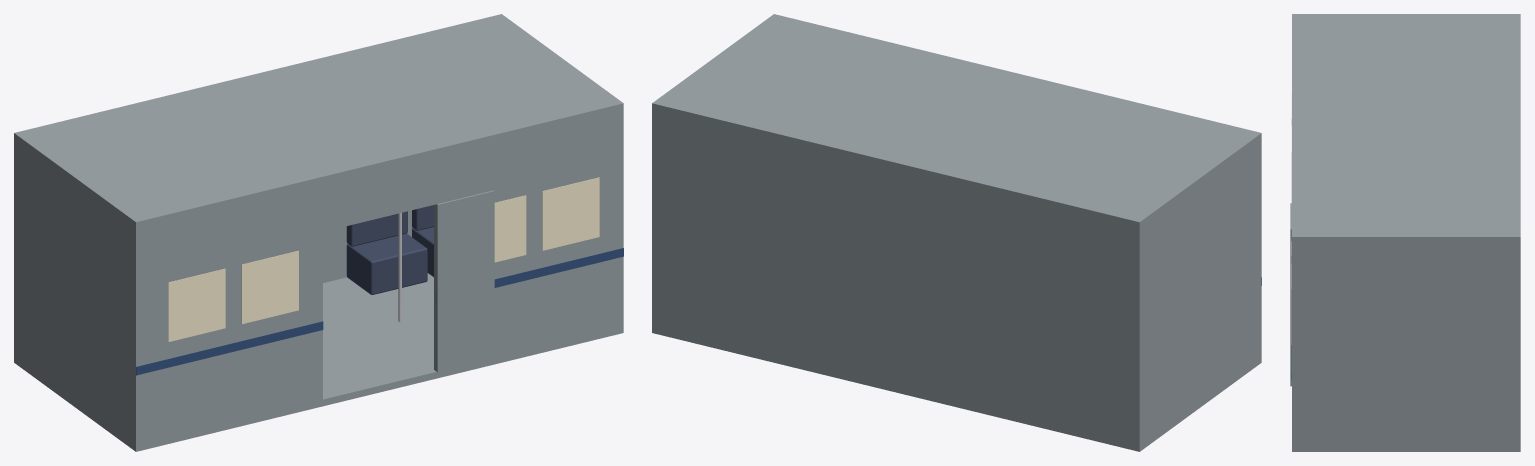
The model's file is metro_car_end.glb.
3 views of the same model, side by side, from view 1: azimuth 30°, elevation 25°; view 2: azimuth 150°, elevation 25°; view 3: azimuth 270°, elevation 25° (orthographic). The views are drawn at different scales.
Visible parts, largest first — view 1: dach, seite-3.0, stirn-1, seite0.7, boden, tuerfluegel, tuer_sturz, bank1.4, fenster-3.00, fenster0.71, fenster-3.01, rueck (+5 smaller); view 2: rueck, dach, stirn-1, boden, stirn1; view 3: dach, stirn1, rueck, boden, seite0.7, stirn-1, seite-3.0, tuerfluegel.
Part boxes in pixels (x1=…): dach: x1=19, y1=16, x2=615, y2=219; seite-3.0: x1=133, y1=175, x2=322, y2=450; stirn-1: x1=14, y1=132, x2=140, y2=451; seite0.7: x1=434, y1=101, x2=623, y2=371; boden: x1=14, y1=273, x2=623, y2=451; tuerfluegel: x1=436, y1=190, x2=494, y2=372; tuer_sturz: x1=321, y1=147, x2=436, y2=231; bank1.4: x1=346, y1=233, x2=427, y2=294; fenster-3.00: x1=168, y1=268, x2=225, y2=341; fenster0.71: x1=542, y1=177, x2=599, y2=250; fenster-3.01: x1=241, y1=250, x2=298, y2=324; rueck: x1=14, y1=14, x2=503, y2=364; rueck: x1=652, y1=101, x2=1142, y2=451; dach: x1=657, y1=16, x2=1256, y2=219; stirn-1: x1=1135, y1=132, x2=1261, y2=451; boden: x1=652, y1=326, x2=1261, y2=451; stirn1: x1=652, y1=14, x2=778, y2=327; dach: x1=1295, y1=15, x2=1516, y2=235; stirn1: x1=1292, y1=234, x2=1520, y2=451; rueck: x1=1515, y1=14, x2=1520, y2=451; boden: x1=1292, y1=445, x2=1520, y2=451; seite0.7: x1=1292, y1=151, x2=1297, y2=451; stirn-1: x1=1292, y1=14, x2=1519, y2=16; seite-3.0: x1=1292, y1=14, x2=1297, y2=99; tuerfluegel: x1=1290, y1=203, x2=1291, y2=386.
Size of the model in its own units: 6 by 2.7 by 2.62.
